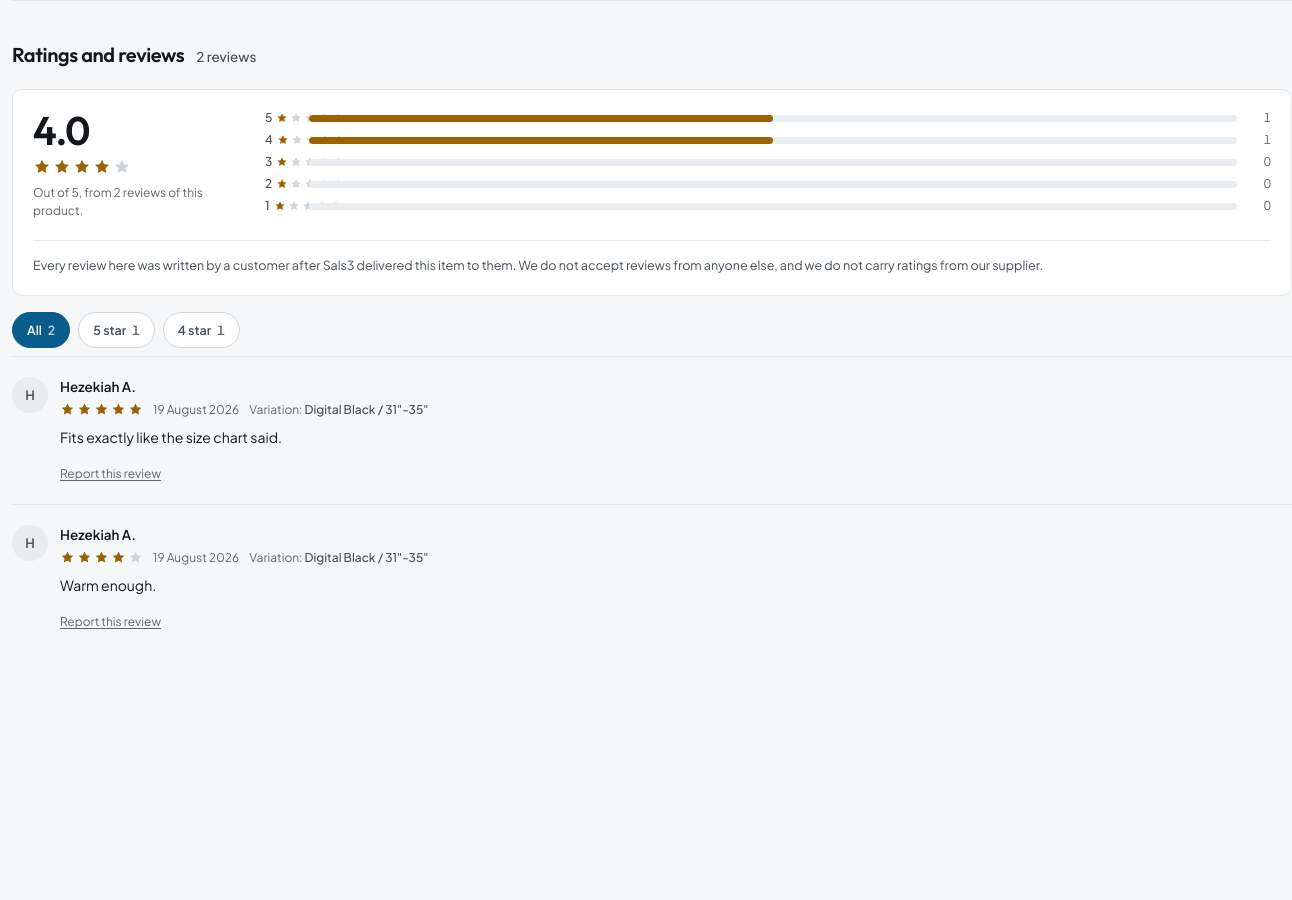
Test case: ProductReviews › narrows the list to the band the buyer pressed
The image size is (1292, 900).
Check: the text "Fits exactly like the size chart said." is shown, box [60,428,282,446]
Check: the text "Warm enough." is shown, box [60,576,156,594]
Click the button "4 star 1".
click(201, 330)  # box [163,312,240,348]
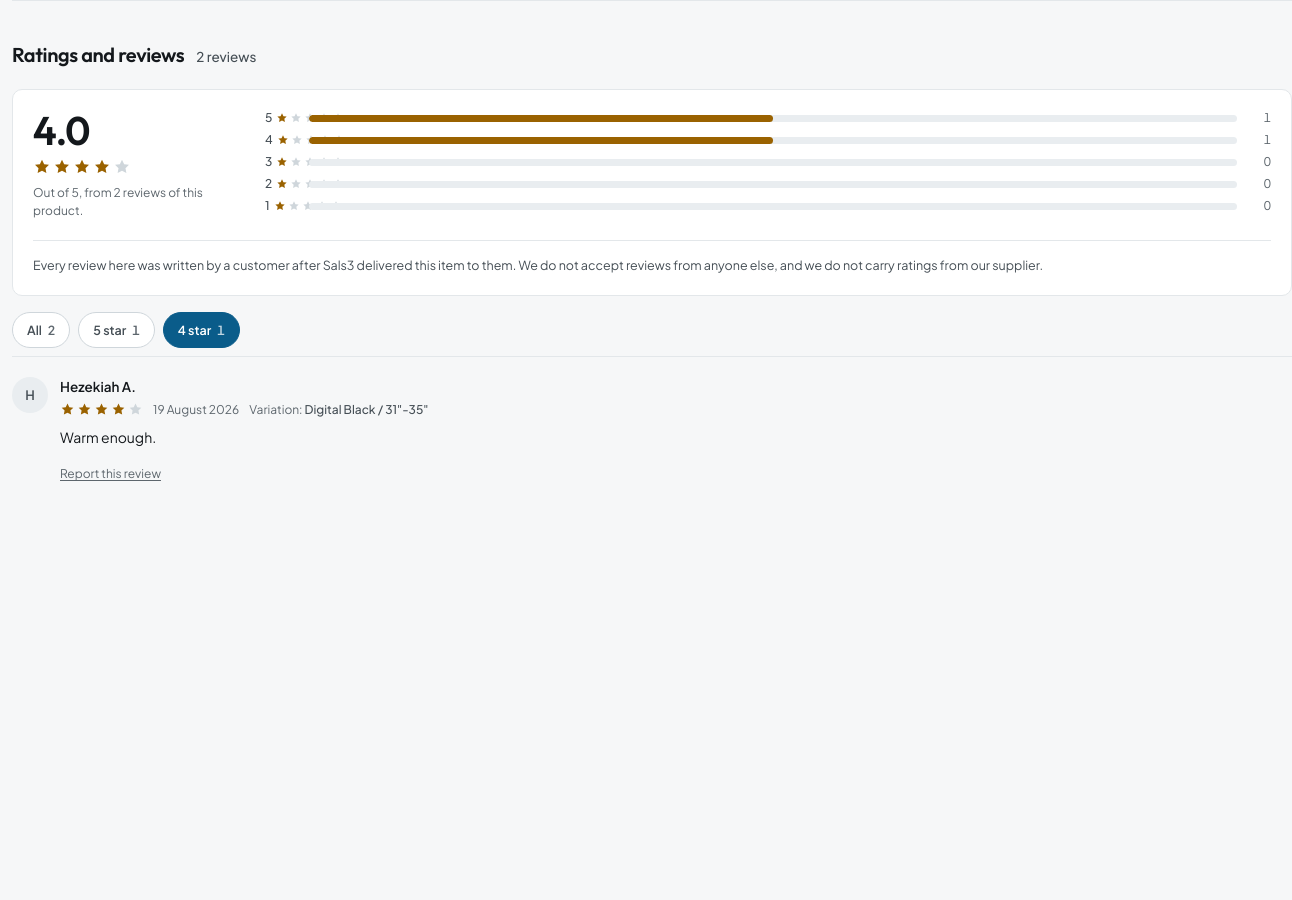
Check: the text "Warm enough." is shown, box [60,428,156,446]
Check: the text "Fits exactly like the size chart said." is gone
